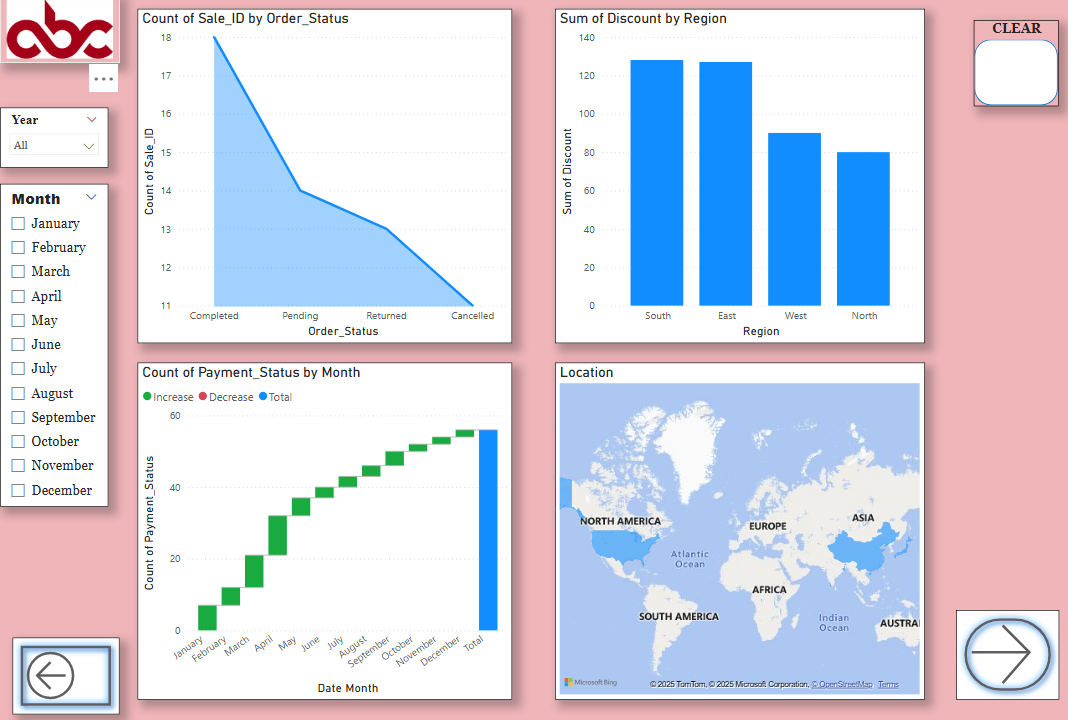

The page's visual inventory and layout, read from the dashboard file:
{"tool":"powerbi","page":{"name":"Analysis 2","canvas":[1280,880],"ordinal":1},"visuals":[{"type":"shape","title":"CLEAR","box":[1165,30,101.7,103.3],"z":0},{"type":"actionButton","box":[1143.4,735.7,123.4,106.8],"z":1000},{"type":"image","box":[0,0,142.9,81.2],"z":2000},{"type":"slicer","fields":{"Values":["project sale.Date.Variation.Date Hierarchy.Year"]},"box":[0,133.9,129.4,72.2],"z":3000},{"type":"slicer","fields":{"Values":["project sale.Date.Variation.Date Hierarchy.Month"]},"box":[0,225.7,129.4,386.6],"z":4000},{"type":"stackedAreaChart","fields":{"Category":["project sale.Order_Status"],"Y":["CountNonNull(project sale123.Sale_ID)"]},"box":[164,16.5,448.3,400.2],"z":5000},{"type":"lineStackedColumnComboChart","fields":{"Y":["Sum(project sale.Discount)"],"Category":["project sale.Region"]},"box":[663.5,16.5,442.3,400.2],"z":6000},{"type":"waterfallChart","fields":{"Category":["project sale.Date.Variation.Date Hierarchy.Month"],"Y":["CountNonNull(project sale123.Payment_Status)"]},"box":[164,439.3,448.3,403.2],"z":7000},{"type":"filledMap","fields":{"Category":["project sale.Location"]},"box":[663.5,439.3,442.3,403.2],"z":8000},{"type":"actionButton","box":[15,768.8,127.9,91.8],"z":9000}]}

Visuals, with their boxes in screenshot pixels (x1, y1, x2, y2), scaled from the page's 1280x880 canvas onto the 1068x720 screenshot:
"CLEAR" shape: pyautogui.locateOnScreen(972, 25, 1057, 109)
actionButton: pyautogui.locateOnScreen(954, 602, 1057, 689)
image: pyautogui.locateOnScreen(0, 0, 119, 66)
slicer - project sale.Date.Variation.Date Hierarchy.Year: pyautogui.locateOnScreen(0, 110, 108, 169)
slicer - project sale.Date.Variation.Date Hierarchy.Month: pyautogui.locateOnScreen(0, 185, 108, 501)
stackedAreaChart - project sale.Order_Status x CountNonNull(project sale123.Sale_ID): pyautogui.locateOnScreen(137, 14, 511, 341)
lineStackedColumnComboChart - Sum(project sale.Discount) x project sale.Region: pyautogui.locateOnScreen(554, 14, 923, 341)
waterfallChart - project sale.Date.Variation.Date Hierarchy.Month x CountNonNull(project sale123.Payment_Status): pyautogui.locateOnScreen(137, 359, 511, 689)
filledMap - project sale.Location: pyautogui.locateOnScreen(554, 359, 923, 689)
actionButton: pyautogui.locateOnScreen(13, 629, 119, 704)
